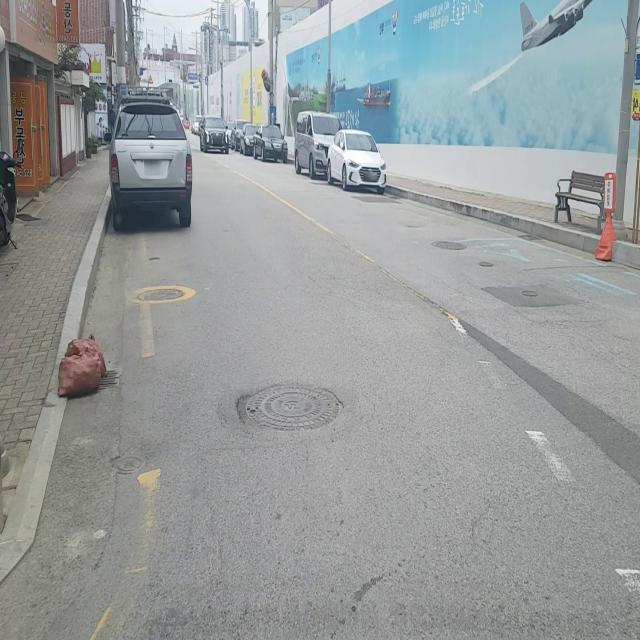pothole: (234, 380, 346, 435)
